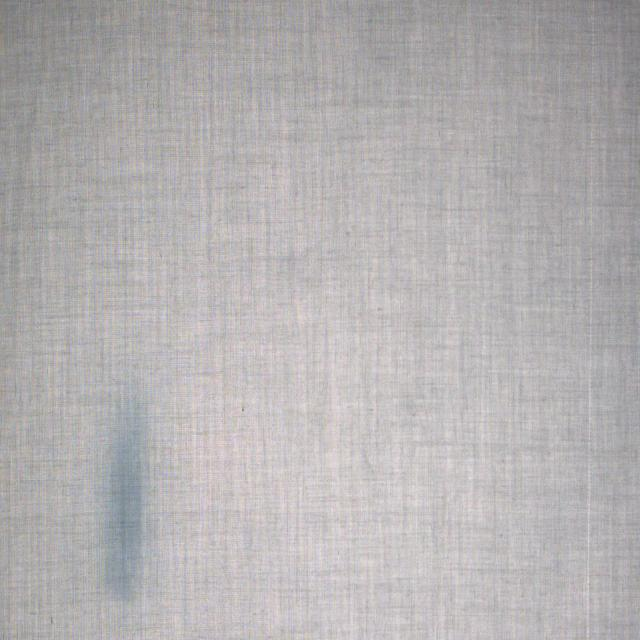dirty: (102, 400, 142, 602)
